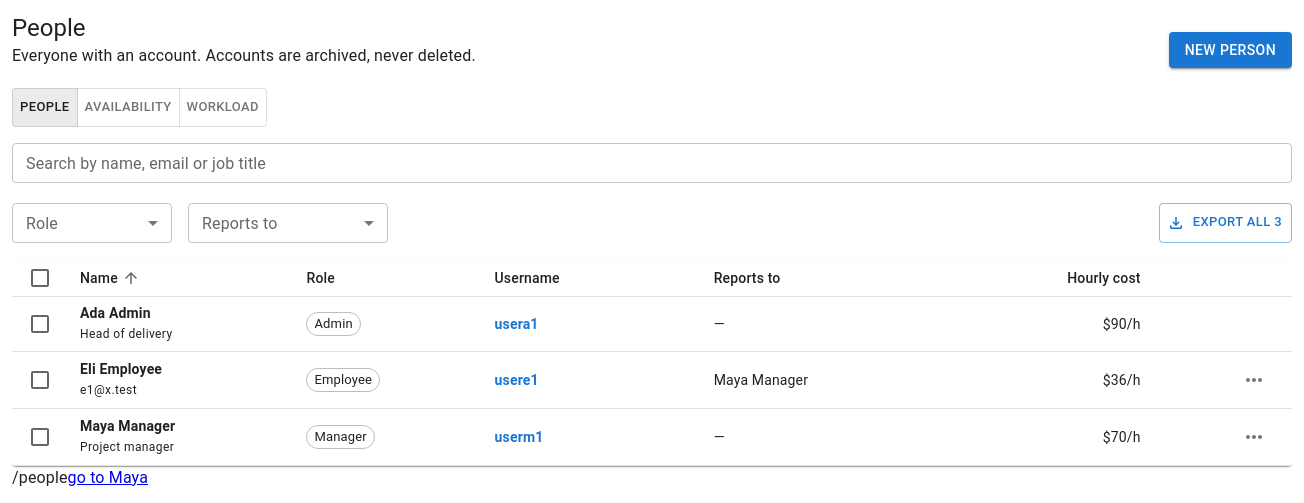
Scenario: PeoplePage as an admin › finds the manager name from the managers list when a search hides the manager
This screenshot has width=1304, height=503.
Expected: the text "Eli Employee" is shown, top-left (80, 361), bottom-right (162, 377)
Type "eli" into the field labelled "Search by name, email or job title".
click(652, 163); type("eli")  # box top-left (12, 143), bottom-right (1292, 183)
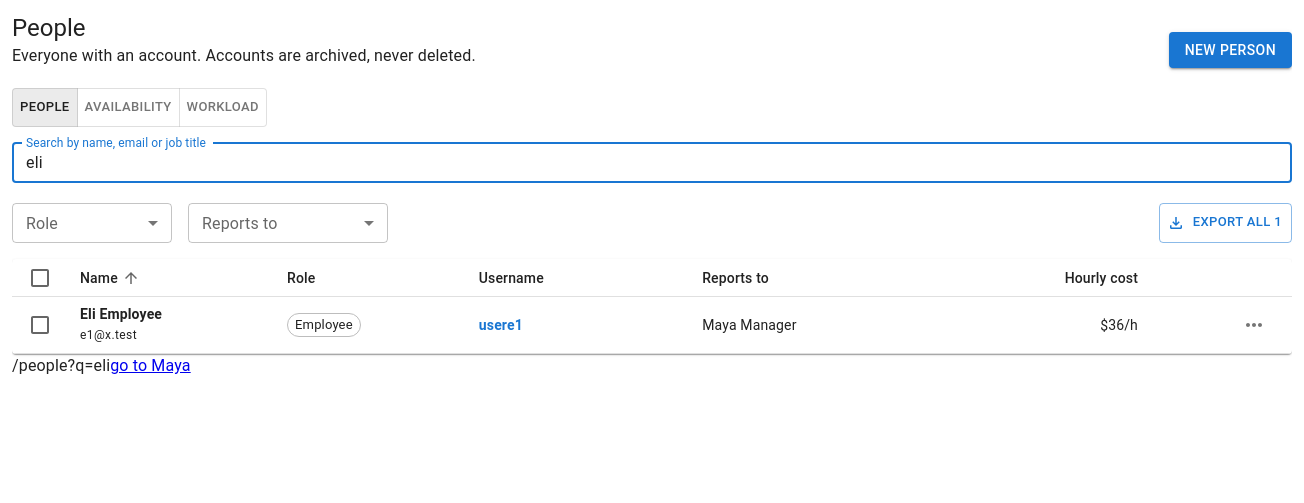
Expected: the text "Maya Manager" is shown, top-left (686, 297), bottom-right (916, 354)
Expected: the text "Ada Admin" is gone
